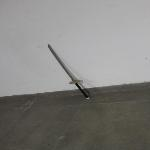Pedang: (37, 38, 98, 109)
